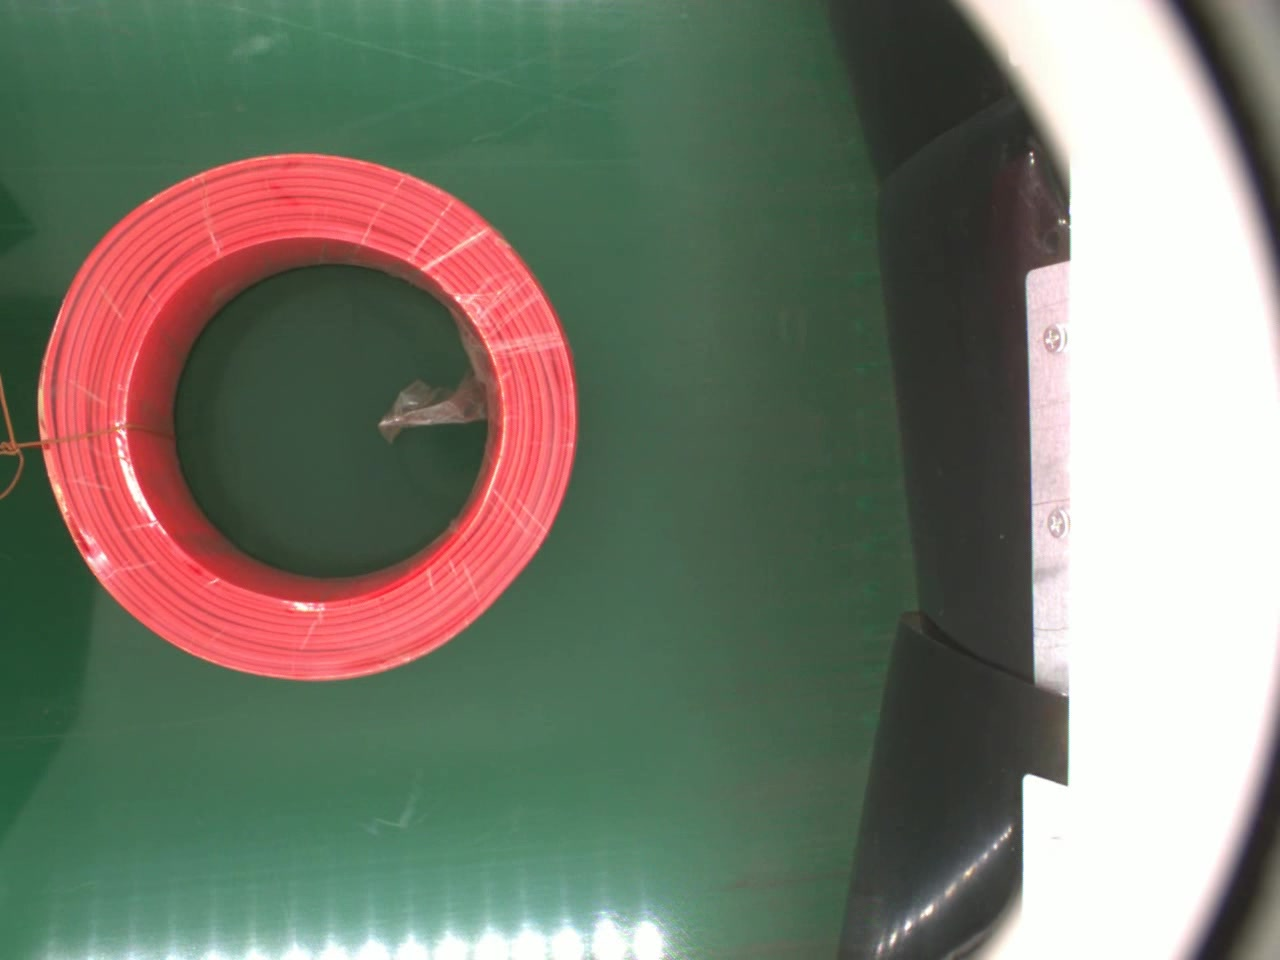red: (32, 145, 581, 686)
